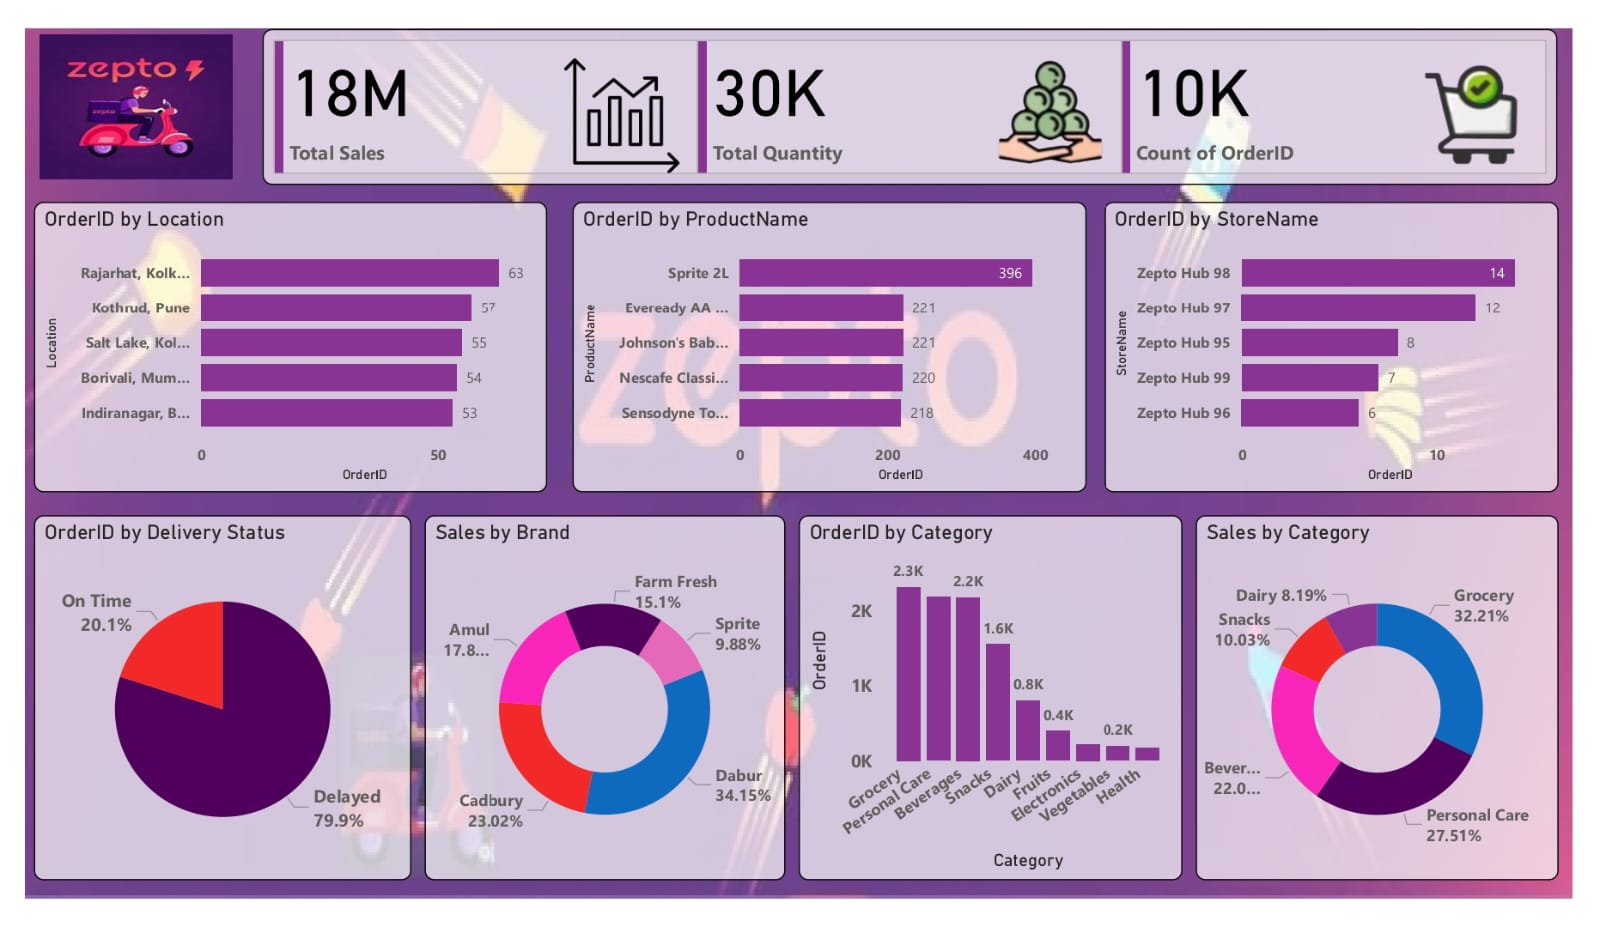

The page's visual inventory and layout, read from the dashboard file:
{"tool":"powerbi","page":{"name":"Page 1","canvas":[1280,720],"ordinal":0},"visuals":[{"type":"shape","box":[0,0,154.2,129.4],"z":0},{"type":"image","box":[6.9,0,169.3,129.4],"z":1000},{"type":"cardVisual","fields":{"Data":["Table.Sales","Sum(Orders.Quantity)","CountNonNull(Orders.OrderID)"]},"box":[196.1,0,1072.3,129],"z":2000},{"type":"barChart","fields":{"Category":["Dark_Warehouses.Location"],"Y":["CountNonNull(Returns.OrderID)"]},"box":[6.9,143.1,425.3,240.9],"z":3000},{"type":"barChart","fields":{"Category":["Products.ProductName"],"Y":["CountNonNull(Delivery.OrderID)"]},"box":[452.8,143.1,425.3,240.9],"z":4000},{"type":"barChart","fields":{"Category":["Dark_Warehouses.StoreName"],"Y":["CountNonNull(Returns.OrderID)"]},"box":[893.2,143.1,375.7,240.9],"z":5000},{"type":"pieChart","fields":{"Category":["Orders.Delivery_status"],"Y":["CountNonNull(Delivery.OrderID)"]},"box":[6.9,403.3,312.4,301.4],"z":6000},{"type":"donutChart","fields":{"Y":["Table.Sales"],"Category":["Products.Brand"]},"box":[330.3,403.3,298.7,301.4],"z":7000},{"type":"columnChart","fields":{"Category":["Products.Category"],"Y":["CountNonNull(Delivery.OrderID)"]},"box":[640,403.3,317.9,301.4],"z":8000},{"type":"donutChart","fields":{"Category":["Products.Category"],"Y":["Table.Sales"]},"box":[968.9,403.3,300,301.4],"z":9000}]}

Visuals, with their boxes in screenshot pixels (x1, y1, x2, y2), scaled from the page's 1280x720 canvas onto the 1600x927 screenshot:
shape: pyautogui.locateOnScreen(0, 0, 193, 167)
image: pyautogui.locateOnScreen(9, 0, 220, 167)
cardVisual - Table.Sales x Sum(Orders.Quantity): pyautogui.locateOnScreen(245, 0, 1585, 166)
barChart - Dark_Warehouses.Location x CountNonNull(Returns.OrderID): pyautogui.locateOnScreen(9, 184, 540, 494)
barChart - Products.ProductName x CountNonNull(Delivery.OrderID): pyautogui.locateOnScreen(566, 184, 1098, 494)
barChart - Dark_Warehouses.StoreName x CountNonNull(Returns.OrderID): pyautogui.locateOnScreen(1116, 184, 1586, 494)
pieChart - Orders.Delivery_status x CountNonNull(Delivery.OrderID): pyautogui.locateOnScreen(9, 519, 399, 907)
donutChart - Table.Sales x Products.Brand: pyautogui.locateOnScreen(413, 519, 786, 907)
columnChart - Products.Category x CountNonNull(Delivery.OrderID): pyautogui.locateOnScreen(800, 519, 1197, 907)
donutChart - Products.Category x Table.Sales: pyautogui.locateOnScreen(1211, 519, 1586, 907)
